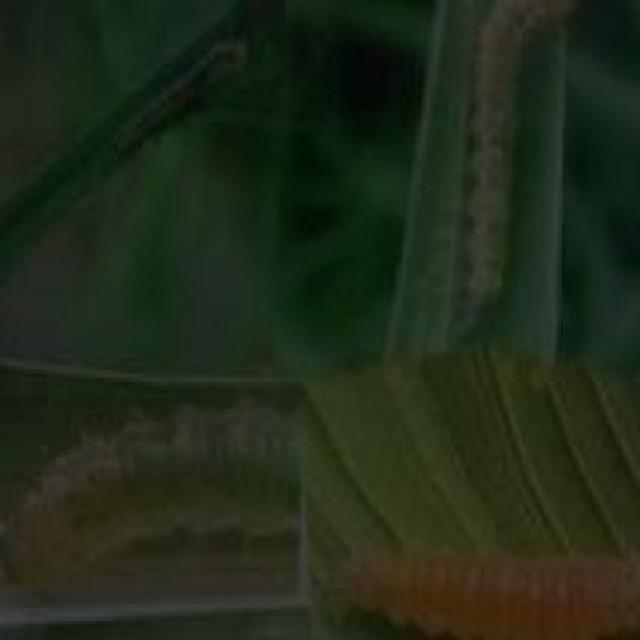leaf-folder: (6, 394, 308, 609), (437, 6, 561, 323), (343, 517, 640, 640), (130, 24, 256, 150)
